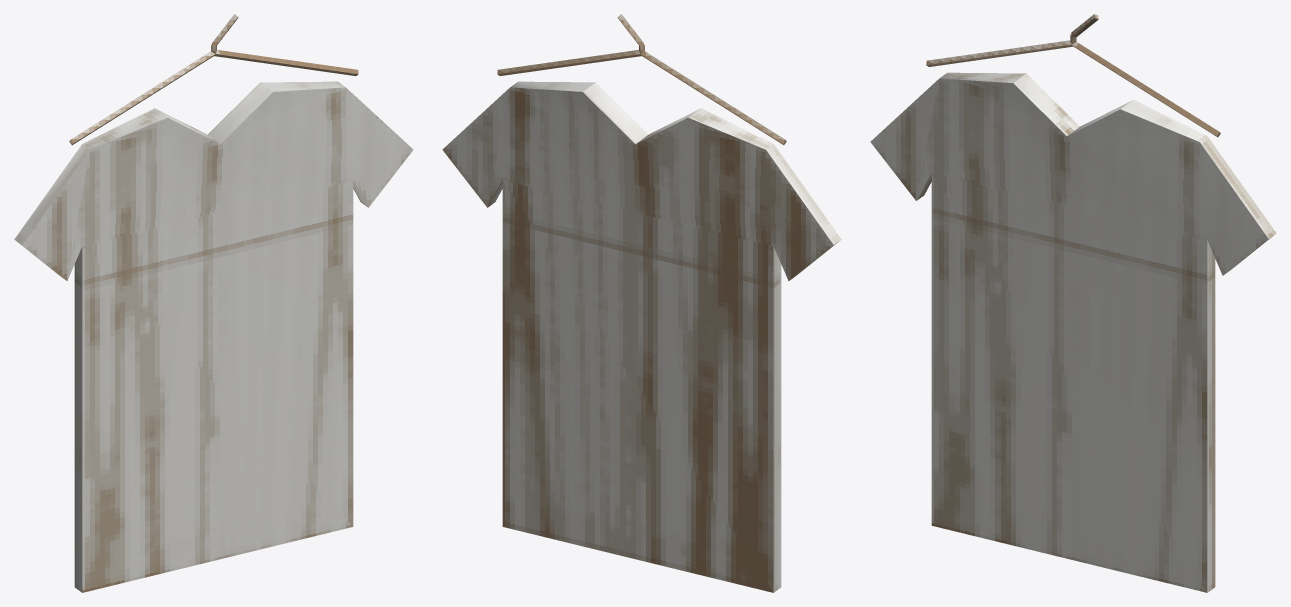
The model's file is laundry_tee.glb.
The picture shows the model from 3 angles, left to right: view 1: azimuth 30°, elevation 25°; view 2: azimuth 150°, elevation 25°; view 3: azimuth 330°, elevation 25°; orthographic projection.
Visible parts, largest first — view 1: mesh; view 2: mesh; view 3: mesh.
Boxes of the visible parts, <box> form: mesh: <box>14,14,413,592</box>; mesh: <box>442,14,841,592</box>; mesh: <box>870,14,1276,592</box>.
Bounding box in the file's own units: 0.5202 × 0.683 × 0.03.
Materials: 1 (1 with a texture image).
